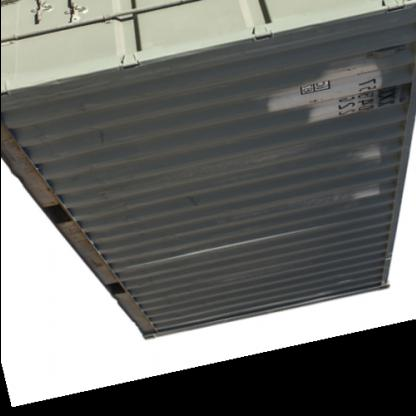Damage: (1, 107, 55, 217), (54, 212, 108, 286)
